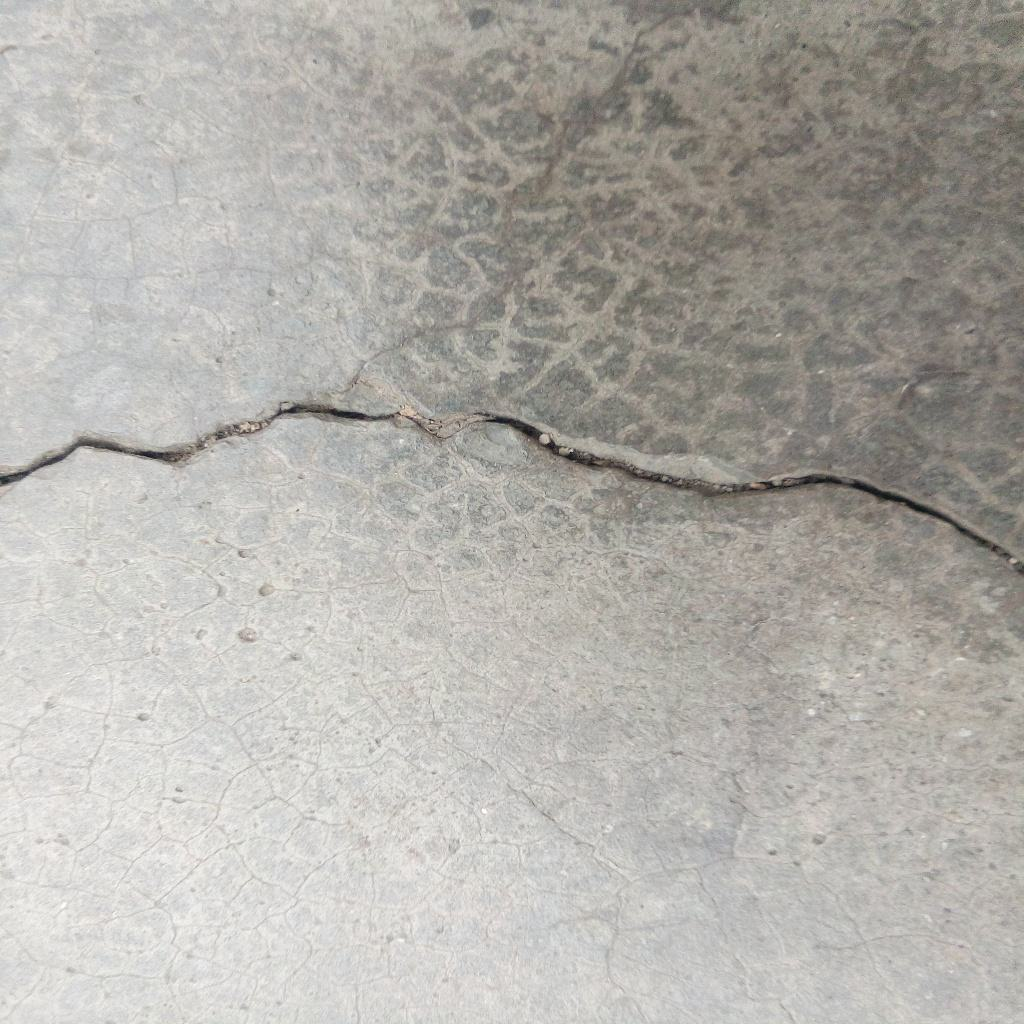Crack: (1, 401, 1024, 585)
